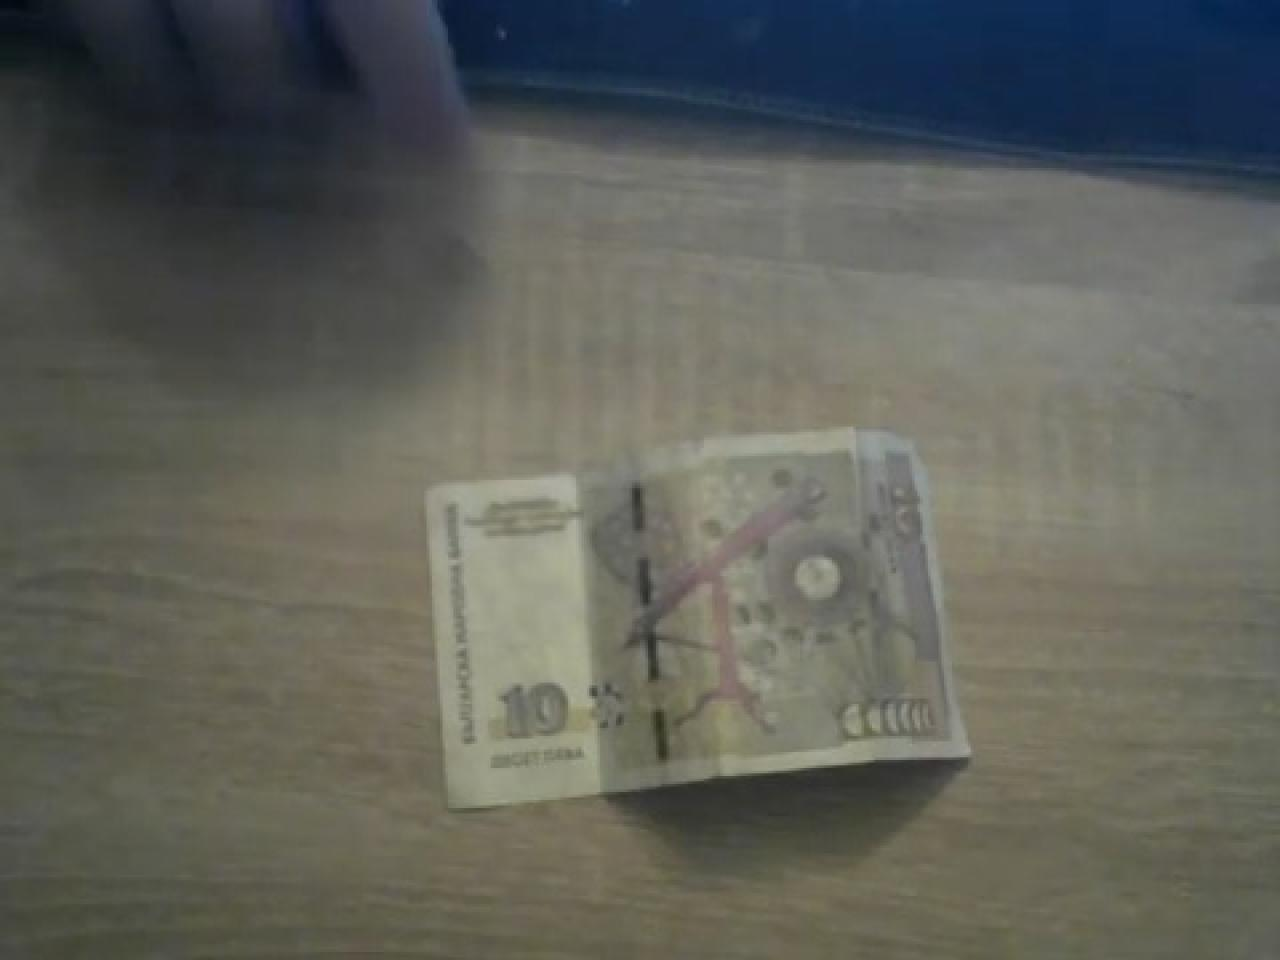10leva: (424, 429, 971, 813)
